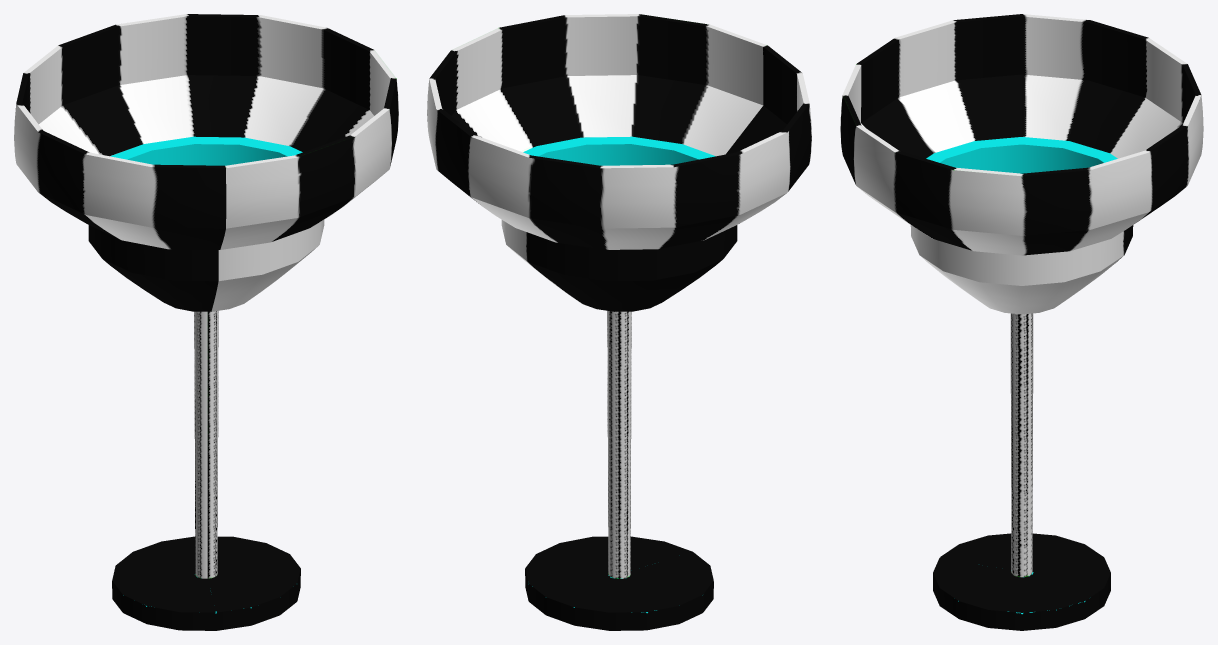
Rendered from Copas.fbx.
3 renders of one model, left to right at view 1: azimuth 30°, elevation 25°; view 2: azimuth 150°, elevation 25°; view 3: azimuth 270°, elevation 25°, orthographic.
Visible parts, largest first — view 1: Copas(Mapeada)(texturizada); view 2: Copas(Mapeada)(texturizada); view 3: Copas(Mapeada)(texturizada).
Boxes of the visible parts, left/top/right/bottom form: Copas(Mapeada)(texturizada): left=14, top=14, right=398, bottom=630; Copas(Mapeada)(texturizada): left=427, top=14, right=811, bottom=630; Copas(Mapeada)(texturizada): left=840, top=14, right=1203, bottom=630.
Size of the model in its own units: 43.33 by 61 by 40.51.
